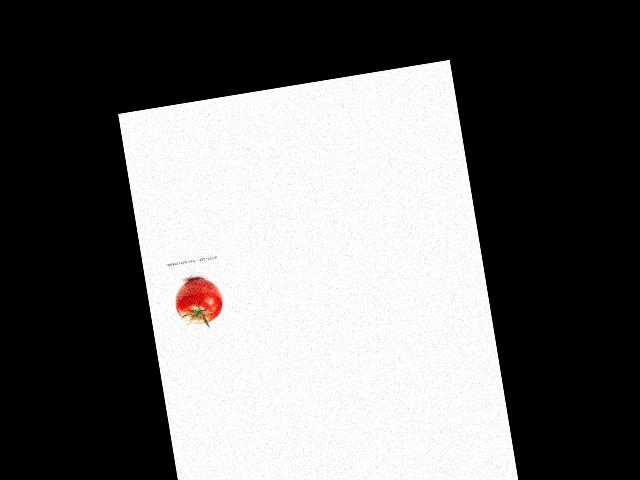tomato: (172, 275, 225, 327)
